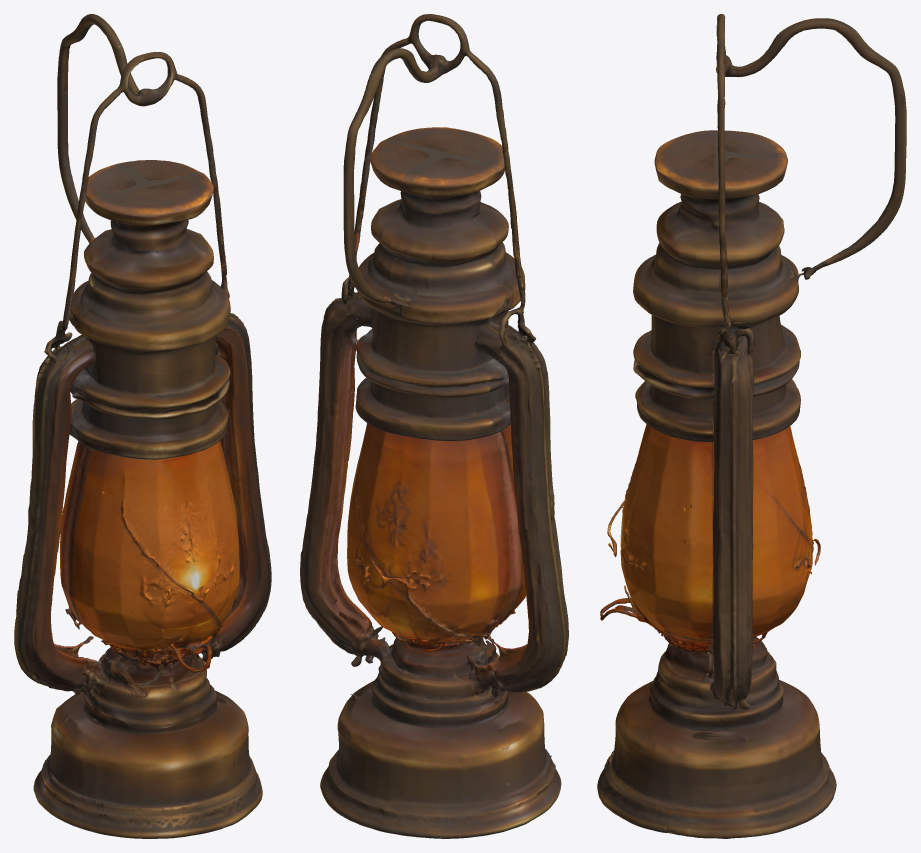
Rendered from An_antique_oil_lamp_i_0721231151_texture.fbx.
3 views of the same model, side by side, from view 1: azimuth 30°, elevation 25°; view 2: azimuth 150°, elevation 25°; view 3: azimuth 270°, elevation 25° (orthographic). The views are drawn at different scales.
Visible parts, largest first — view 1: Mesh_0; view 2: Mesh_0; view 3: Mesh_0.
Boxes of the visible parts, <box> form: Mesh_0: <box>14,14,271,838</box>; Mesh_0: <box>300,14,568,838</box>; Mesh_0: <box>597,14,906,838</box>.
Size of the model in its own units: 71.84 by 200 by 72.83.
Materials: 1 (1 with a texture image).
